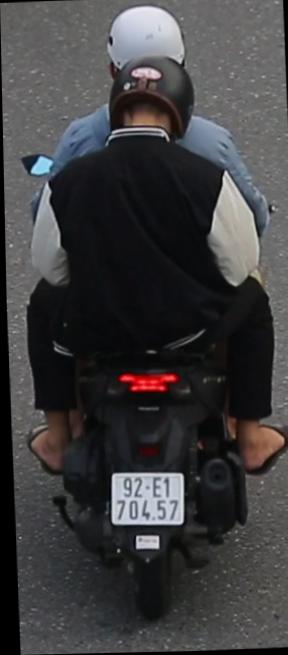LP: (102, 463, 185, 533)
helmet: (102, 50, 193, 154), (86, 0, 201, 77)
